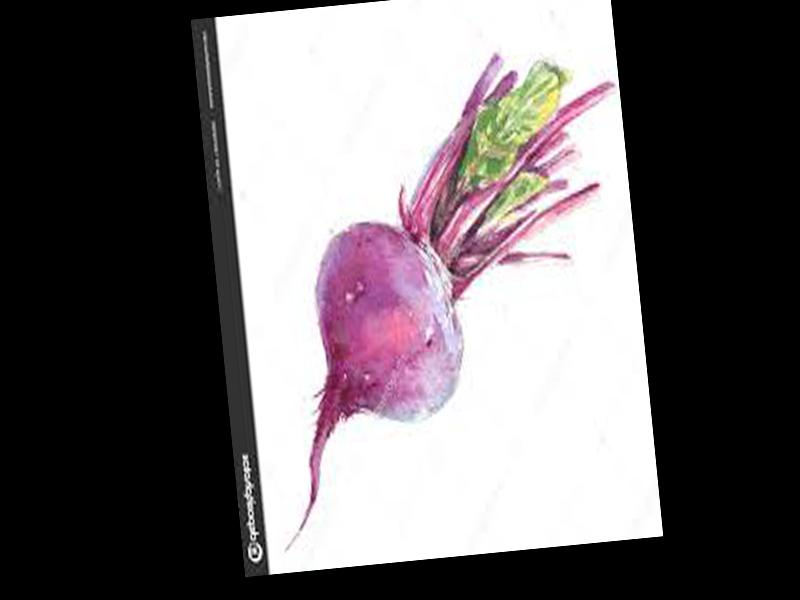Beet: (240, 42, 656, 549)
